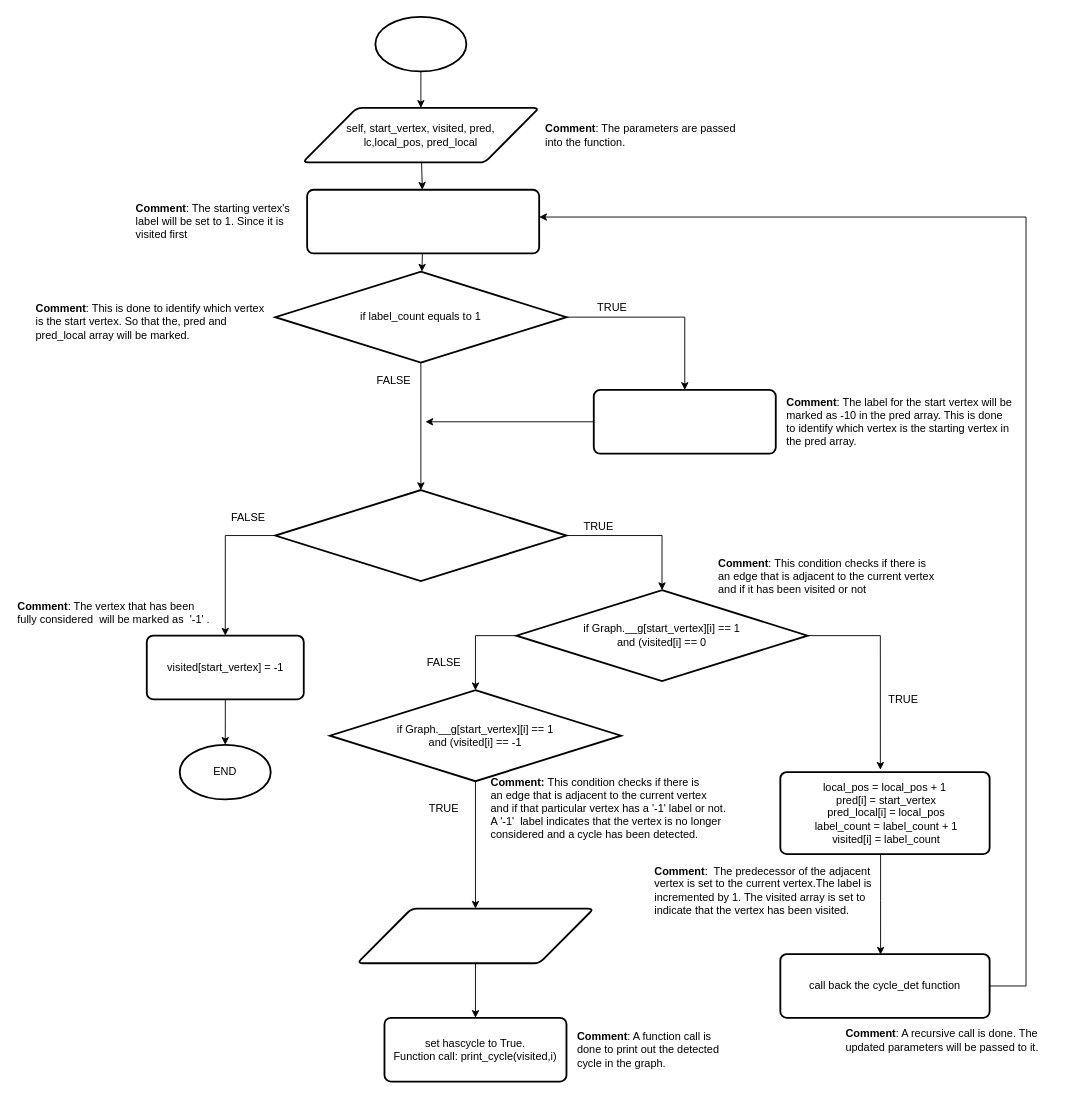
This 1068x1097 diagram has some shape labels left out. Each missing label, with the box of its shape:
BEGIN: (374, 15, 467, 72)
for i is less than or equal to number of vertices in the graph.: (274, 489, 567, 581)
print "cycle detected": (356, 907, 594, 964)
Set label_count to lc. Change the label for the start_vertex to label_count.: (306, 188, 540, 254)
set pred[start_vertex] to -10. pred_local[start_vertex] = local_pos: (592, 389, 776, 454)
